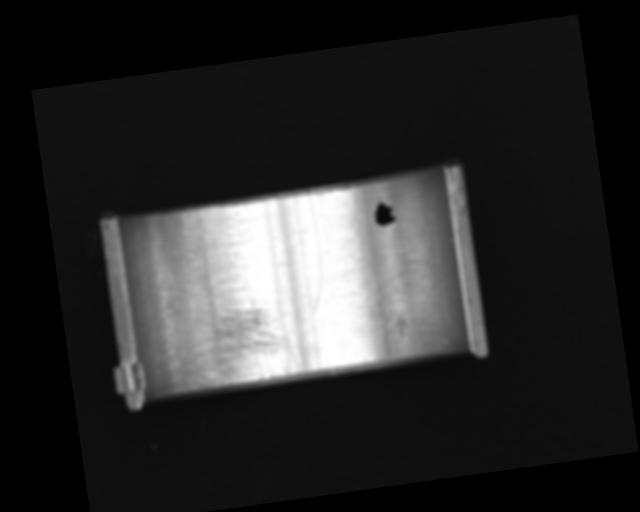blot: (371, 195, 397, 228)
bruise: (393, 314, 410, 339)
nick: (296, 191, 329, 313)
scratch: (181, 291, 303, 394)
